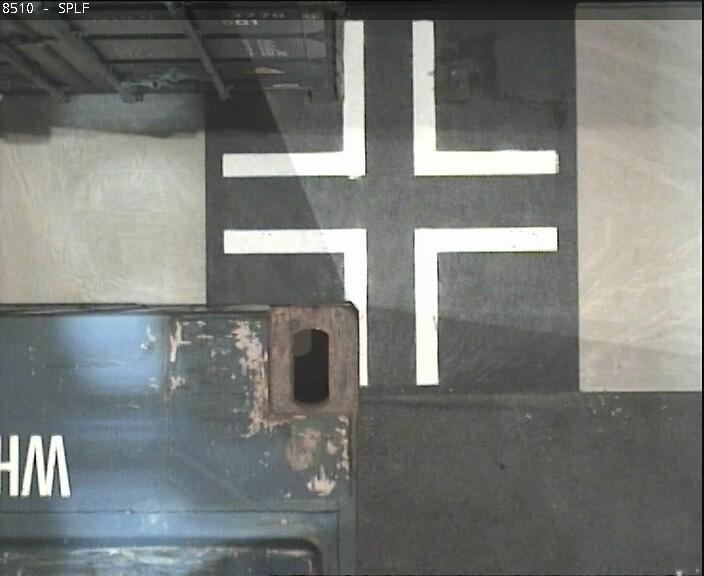groundmarker_1: (230, 224, 559, 386), (226, 16, 555, 178)
